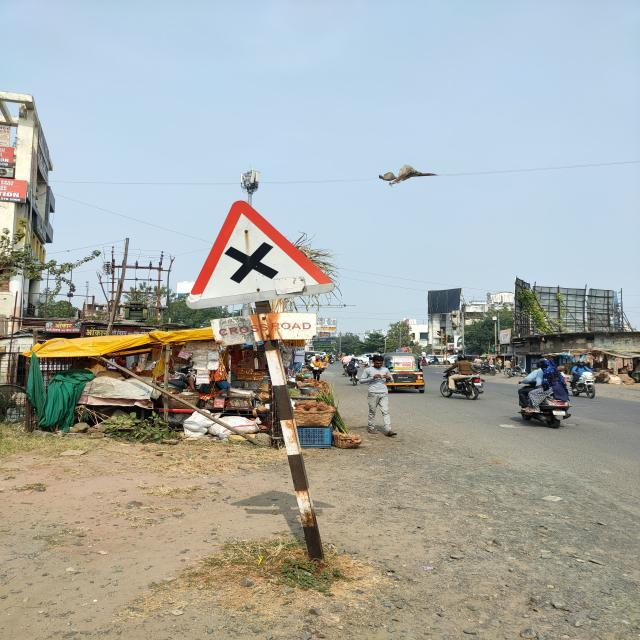cross road: (181, 196, 349, 309)
